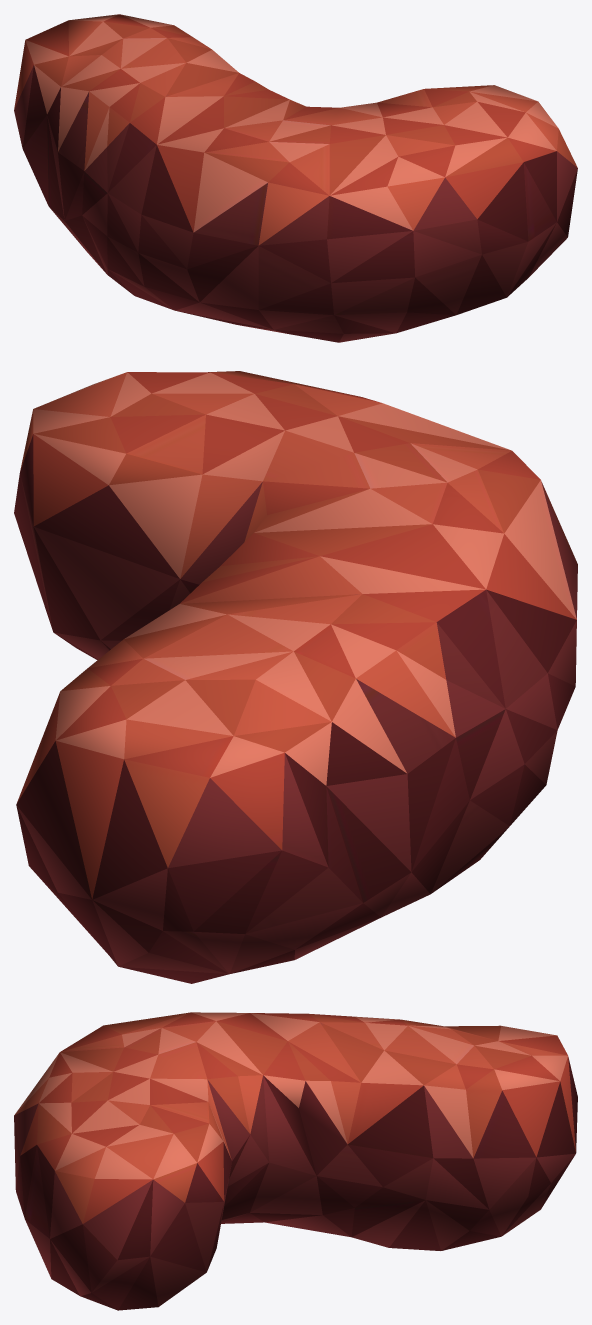
File: L_Shaped_Island_Low_Lvl_1.fbx
3 renders of one model, top to bottom at view 1: azimuth 30°, elevation 25°; view 2: azimuth 150°, elevation 25°; view 3: azimuth 270°, elevation 25°, orthographic. The views are drawn at different scales.
Visible parts, largest first — view 1: polySurface1; view 2: polySurface1; view 3: polySurface1.
Part boxes in pixels (left/top/right/bottom): polySurface1: left=14, top=14, right=577, bottom=342; polySurface1: left=14, top=371, right=577, bottom=983; polySurface1: left=14, top=1012, right=577, bottom=1310.
Bounding box in the file's own units: 1093 × 577 × 1379.
